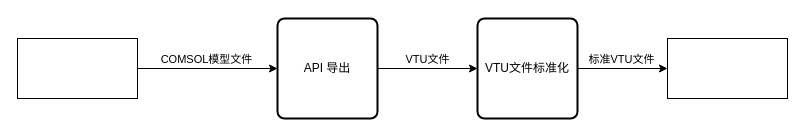
This 805x136 diagram has some shape labels left out. Each missing label, with the centre of its shape:
COMSOL软件: the point at 77,68
UE: the point at 727,68
